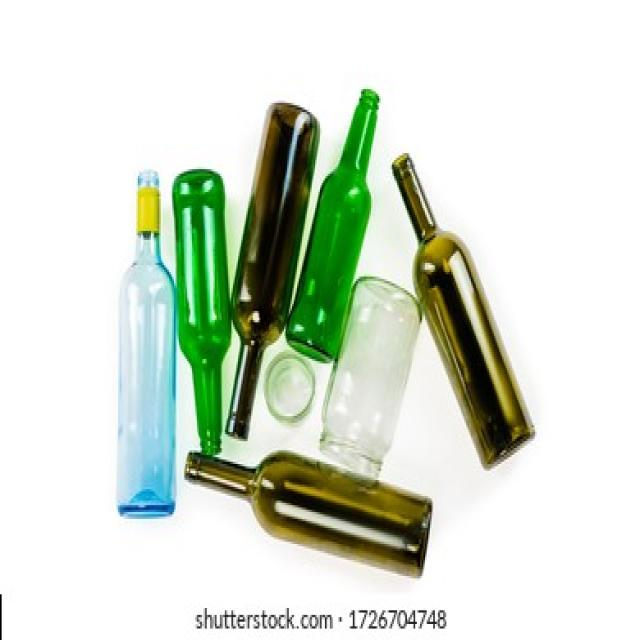glass: (390, 142, 606, 436), (176, 446, 443, 578), (287, 80, 386, 368), (108, 160, 180, 526)
